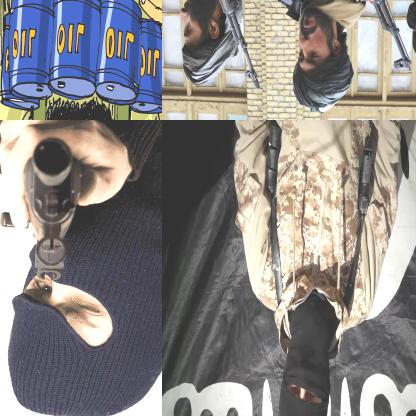pistol: (352, 140, 378, 222)
rifle: (0, 120, 87, 283), (276, 0, 415, 74), (162, 0, 264, 92)
